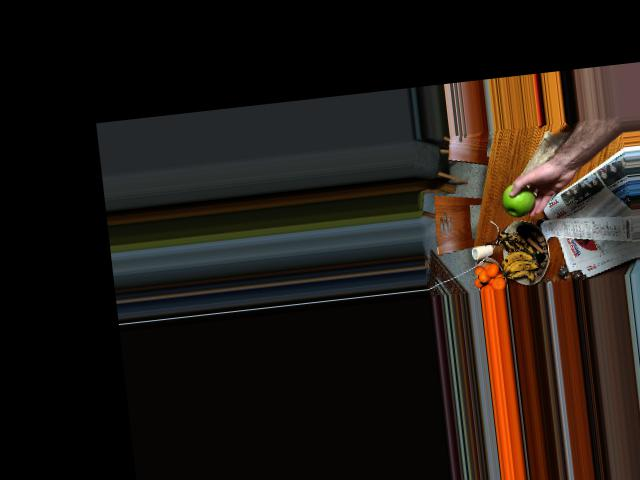apple: (497, 180, 541, 219)
